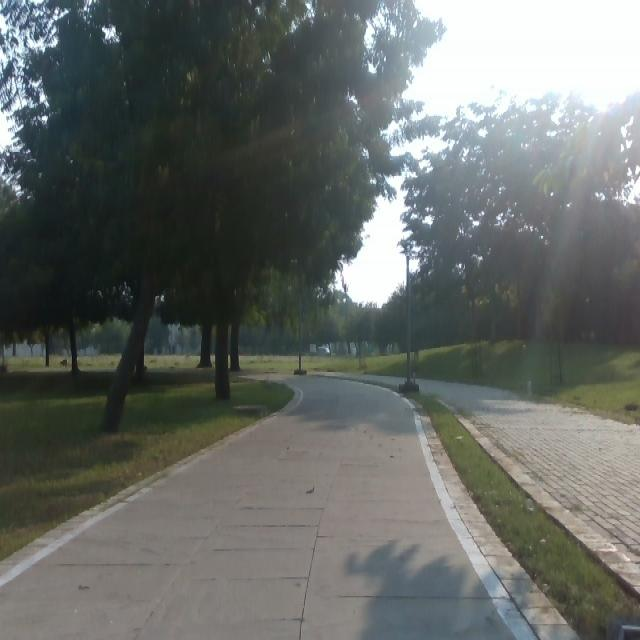lane: (7, 377, 521, 640)
